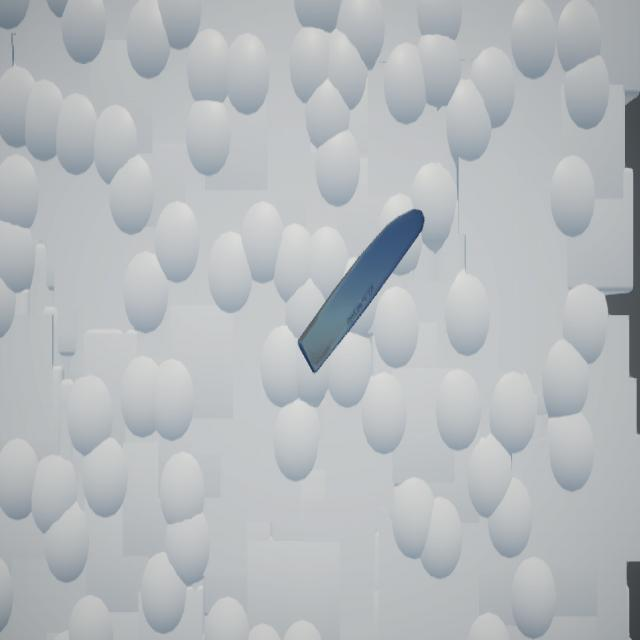top_knife: (298, 210, 426, 375)
